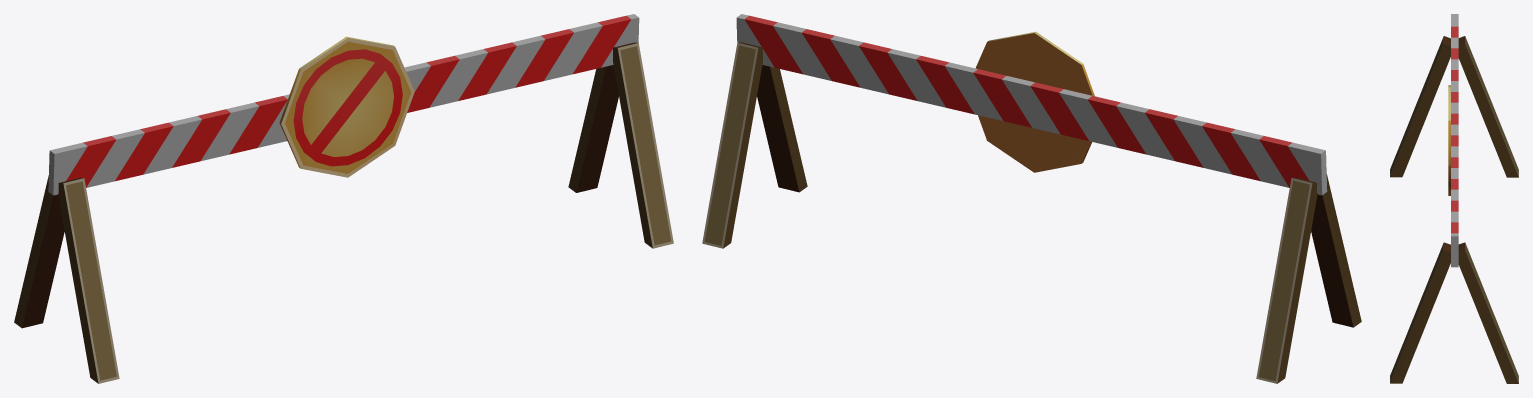
Rendered from Bloqueo.FBX.
3 views of the same model, side by side, from view 1: azimuth 30°, elevation 25°; view 2: azimuth 150°, elevation 25°; view 3: azimuth 270°, elevation 25° (orthographic). The views are drawn at different scales.
Visible parts, largest first — view 1: Bloqueo; view 2: Bloqueo; view 3: Bloqueo.
Part boxes in pixels (box(x1,y1,x2,y2)): Bloqueo: box(14, 14, 673, 383); Bloqueo: box(702, 14, 1361, 383); Bloqueo: box(1390, 14, 1518, 383).
Size of the model in its own units: 916 by 371 by 229.
